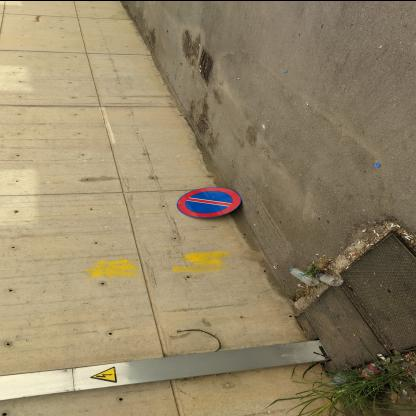No Waiting: (178, 187, 243, 218)
